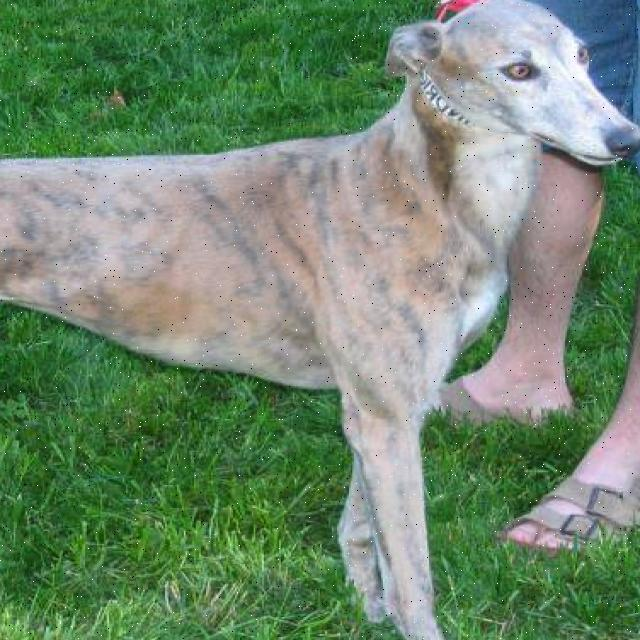Dog: (391, 0, 640, 195)
